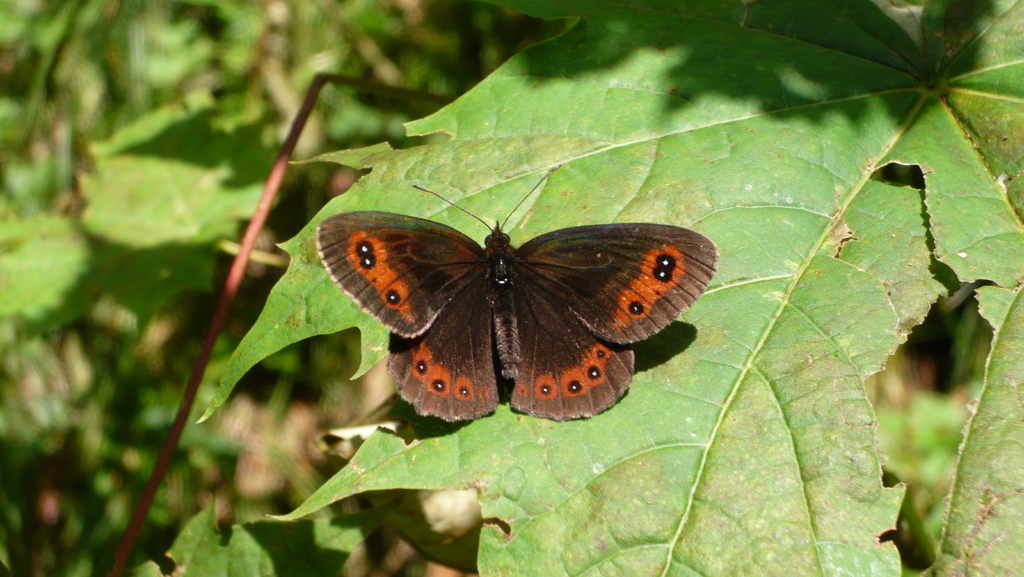Butterfly: (304, 202, 726, 437)
